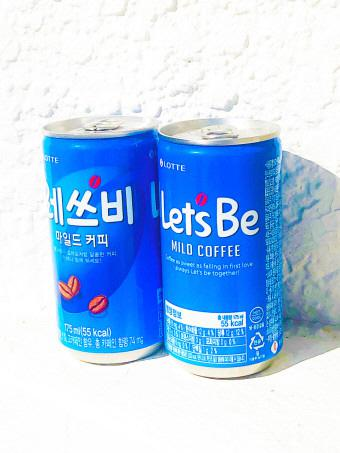letsbe: (161, 119, 289, 379), (39, 115, 168, 365)
